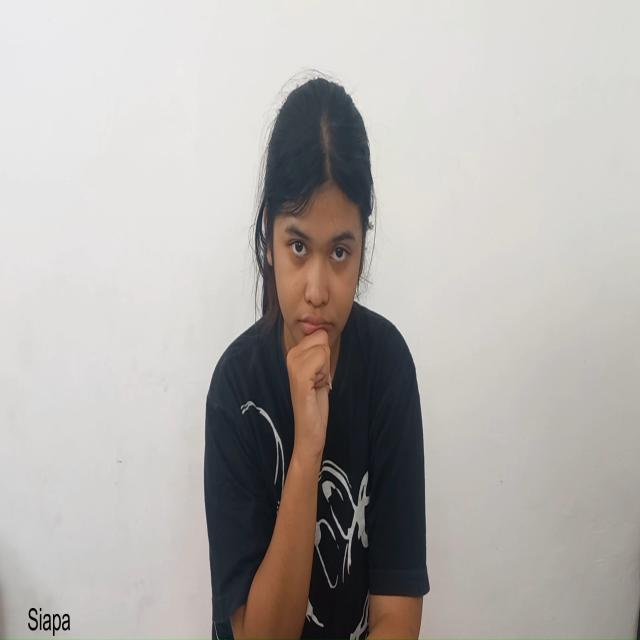Siapa -BISINDO-: (245, 64, 386, 454)
